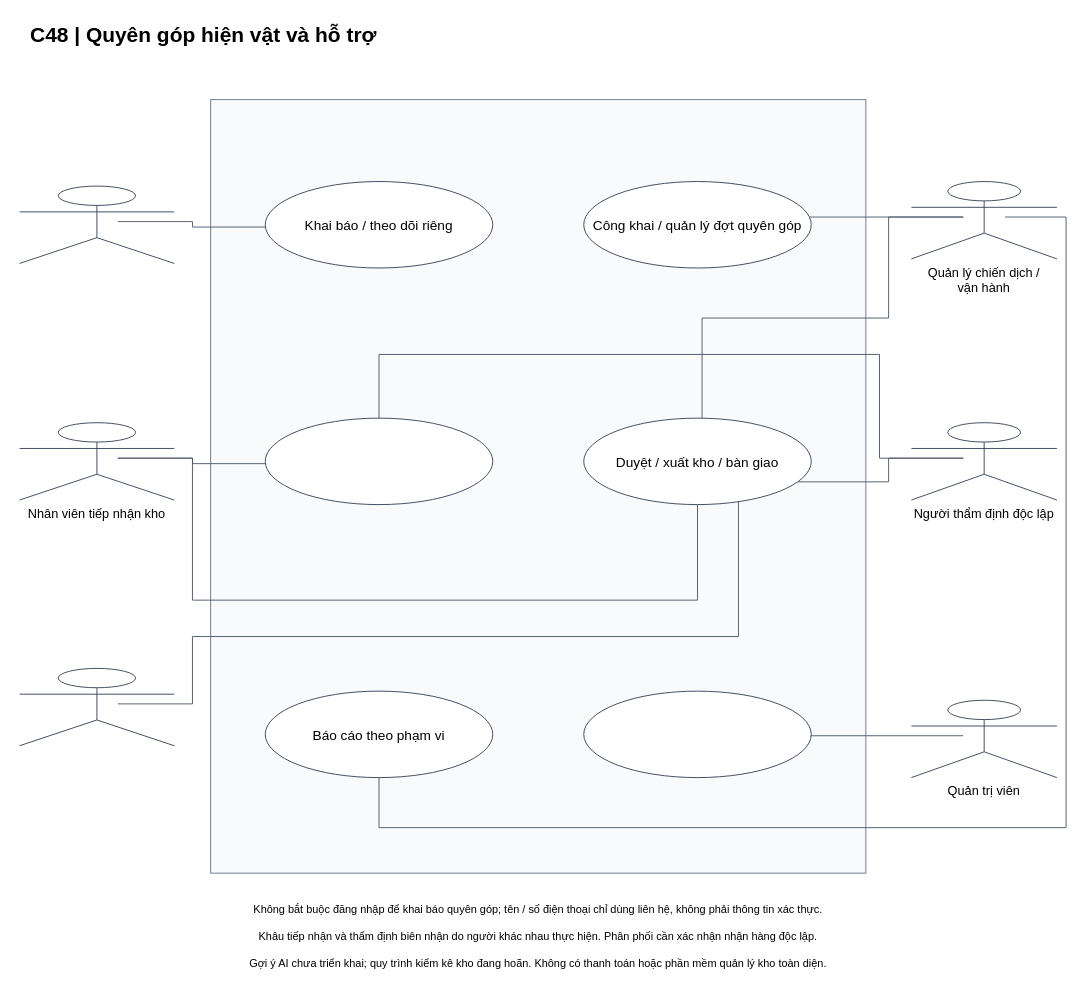
The diagram is 1083 pixels wide and 992 high, and some of its shapes have lost their labels. The shapes that lost their labels are listed below. From the top down, each one's box as (x1, y1, x2, y2) in pixels, then its label:
(19, 185, 174, 263): Khách / công dân quyên góp
(264, 417, 493, 505): Kiểm đếm / thẩm định / ghi sổ
(210, 99, 866, 873): Quyên góp và hỗ trợ vận hành
(19, 667, 174, 746): Đại diện nơi nhận
(583, 690, 811, 778): Tài khoản / quyền theo phạm vi
